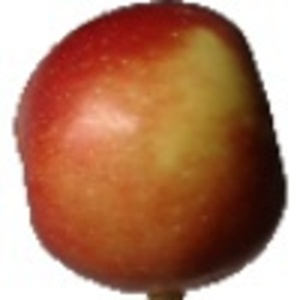maçã braeburn: (1, 1, 292, 293)
